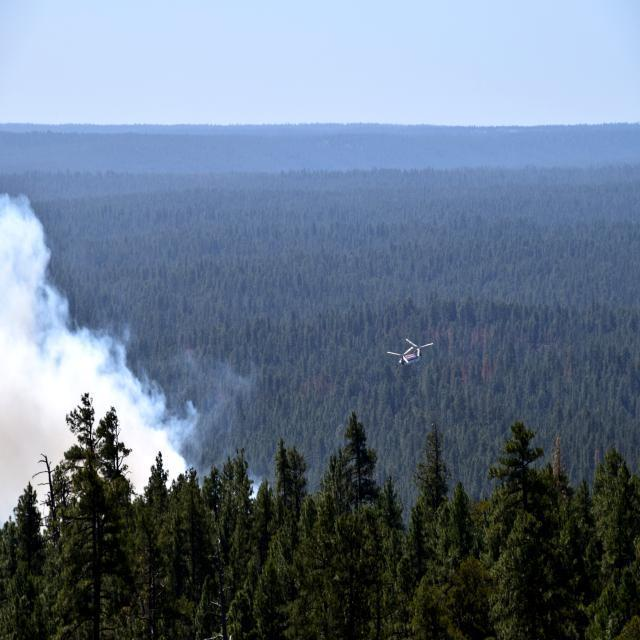Smoke: (0, 200, 206, 530)
